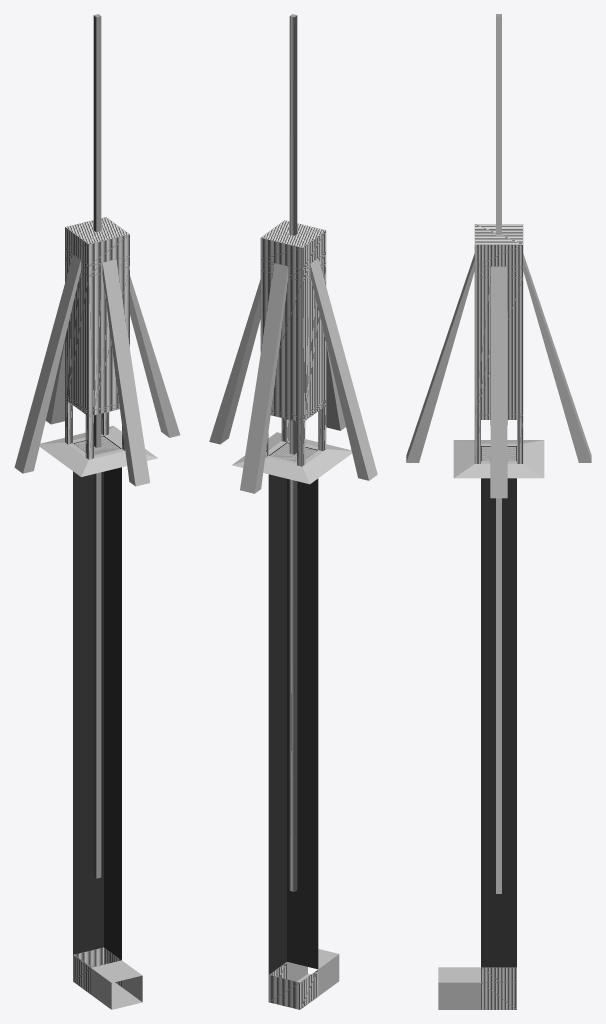
The model's file is Area12_MineshaftLift.fbx.
The picture shows the model from 3 angles, left to right: view 1: azimuth 30°, elevation 25°; view 2: azimuth 150°, elevation 25°; view 3: azimuth 270°, elevation 25°; orthographic projection.
Parts seen in each view (by area): view 1: MIneshaftLift, Lift_Platform; view 2: MIneshaftLift, Lift_Platform; view 3: MIneshaftLift, Lift_Platform.
Boxes of the visible parts, box(x1,y1,x2,y2) form: MIneshaftLift: box(14, 217, 180, 1009); Lift_Platform: box(74, 14, 120, 878); MIneshaftLift: box(209, 220, 377, 1009); Lift_Platform: box(270, 14, 316, 891); MIneshaftLift: box(406, 224, 591, 1009); Lift_Platform: box(481, 14, 516, 893).
Bounding box in the file's own units: 15.32 × 15.32 × 89.98.
